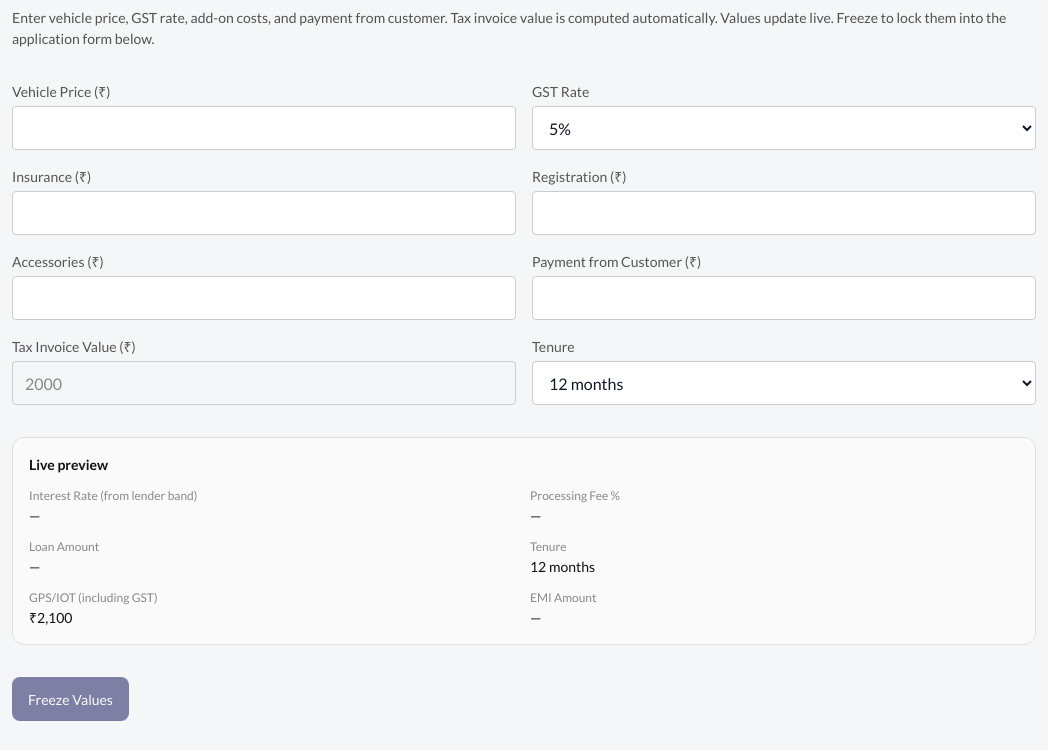
LoanCalculator › blocks freeze when customer payment is below 10% of tax invoice value
The image size is (1048, 750).
Later steps or results of the test are not shown.
Type "60000" into the field with test id "loan-calc-vehicle-price" at (264, 128), box [12, 106, 516, 150]
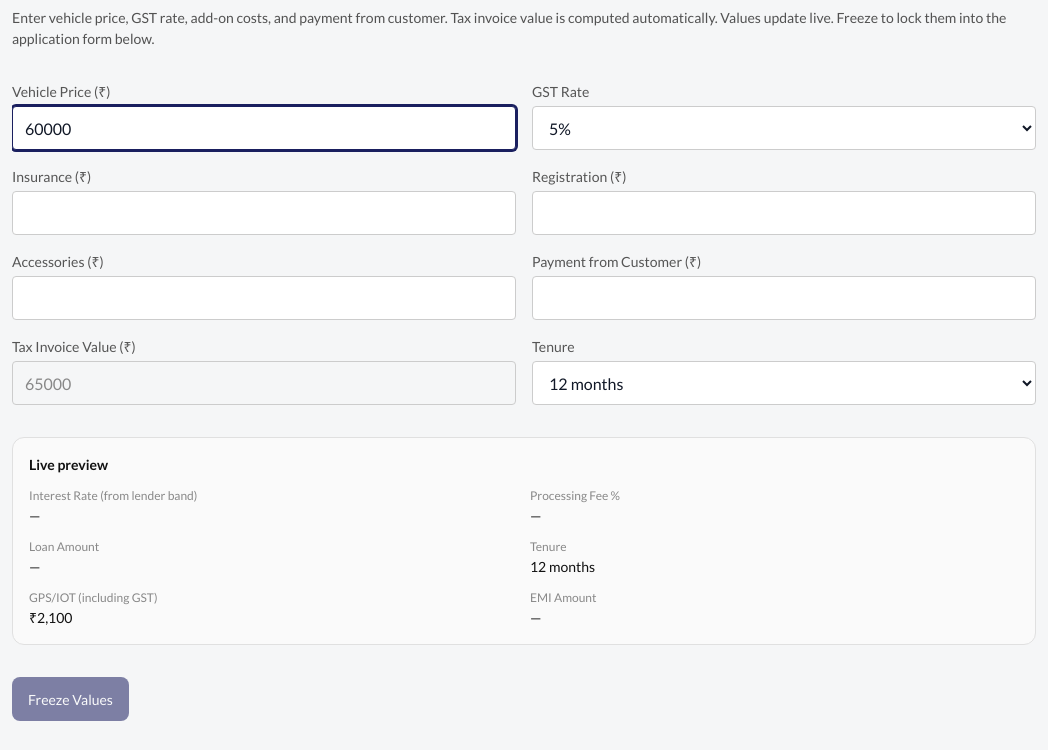
Select "5%" in the dropdown with test id "loan-calc-gst-rate" at (784, 128), box [532, 106, 1036, 150]
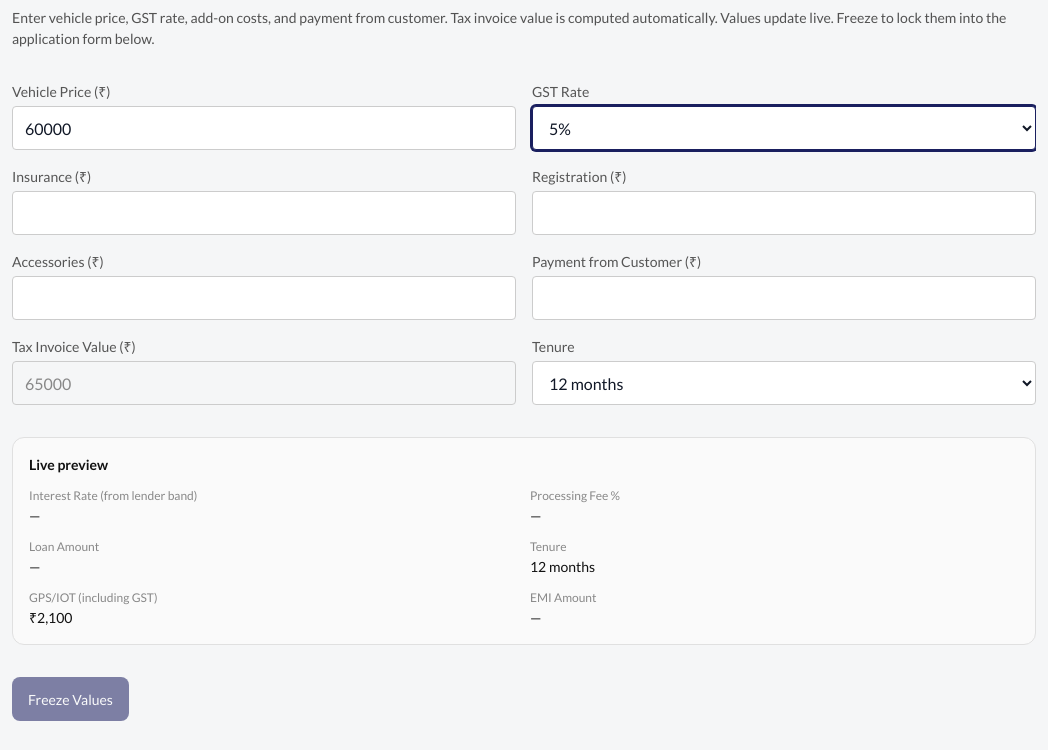
Type "0" into the field with test id "loan-calc-insurance" at (264, 213), box [12, 191, 516, 235]
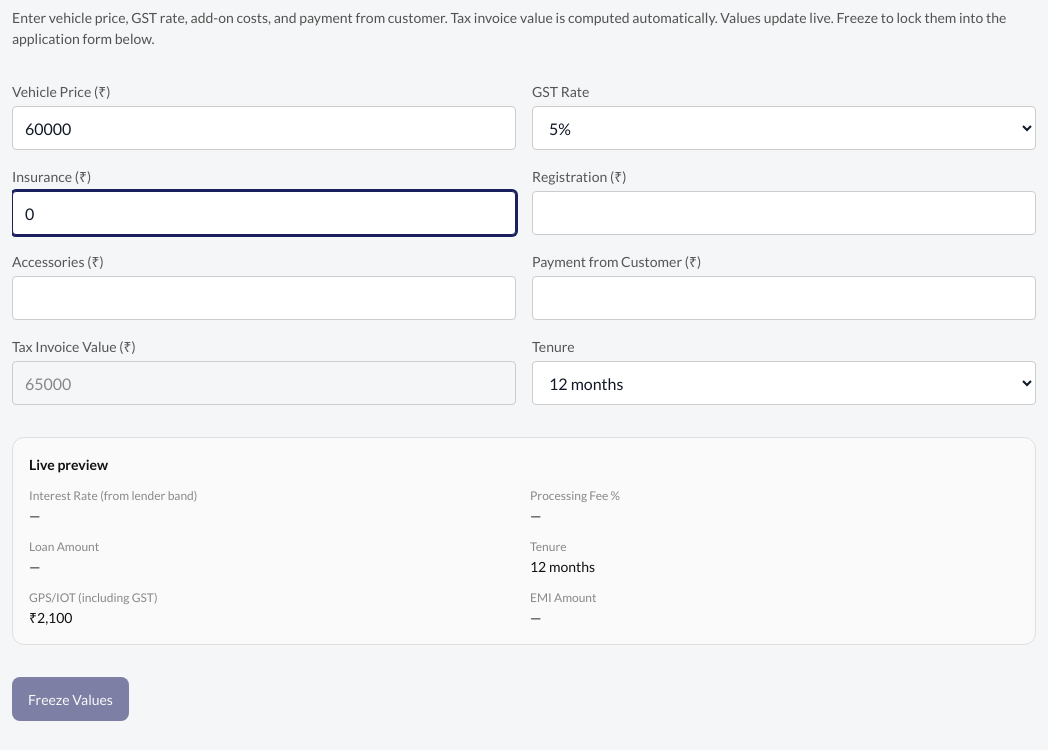
Type "0" into the field with test id "loan-calc-registration" at (784, 213), box [532, 191, 1036, 235]
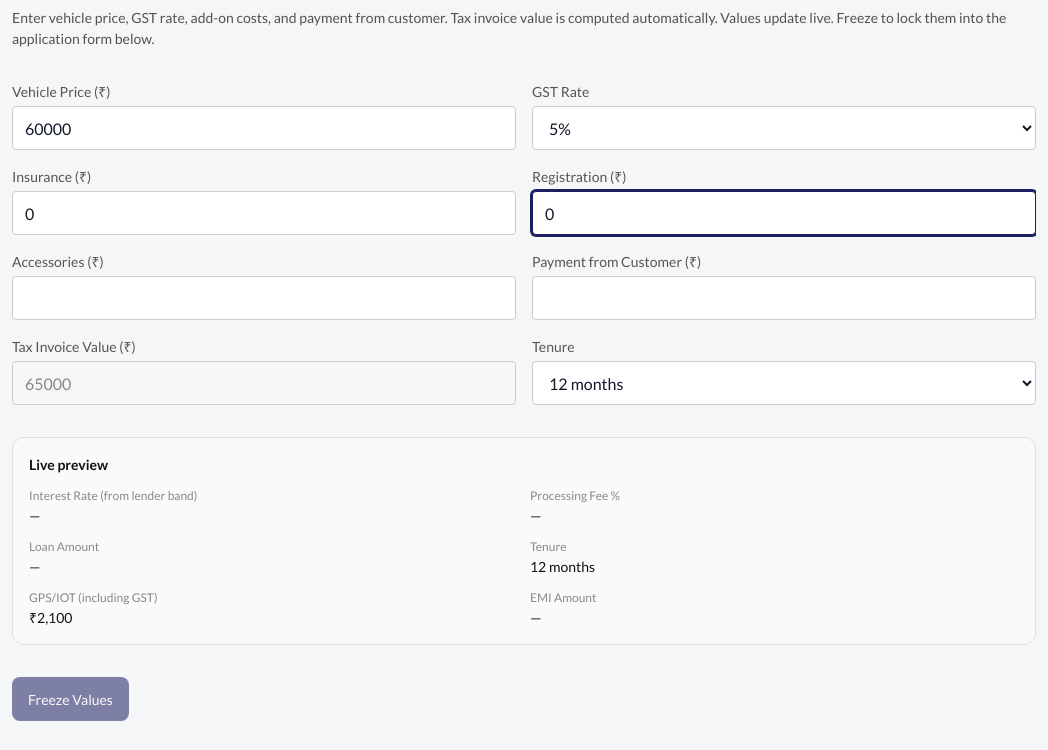
Type "0" into the field with test id "loan-calc-accessories" at (264, 298), box [12, 276, 516, 320]
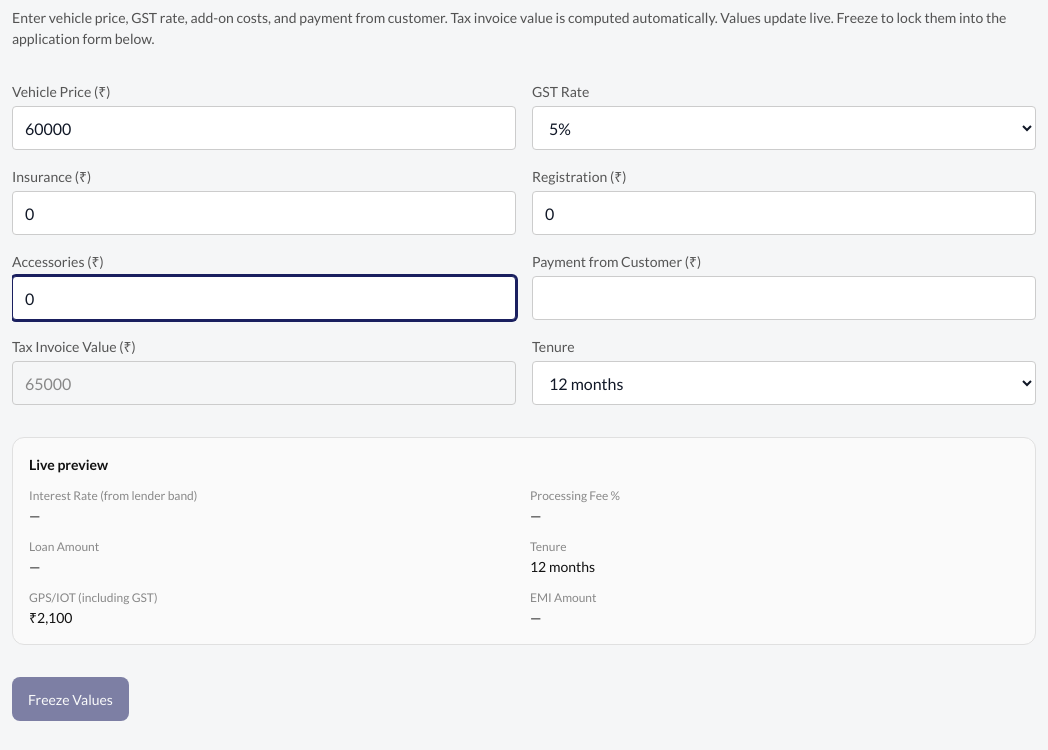
Type "1000" into the field with test id "loan-calc-customer-payment" at (784, 298), box [532, 276, 1036, 320]
(page scrolled)
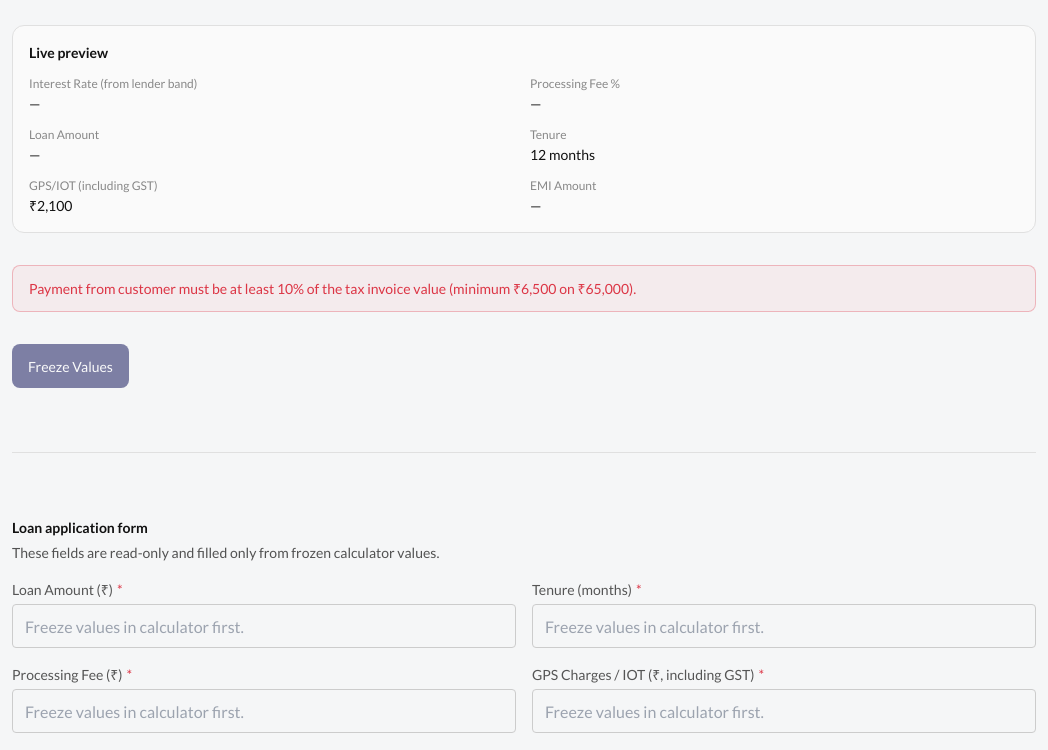
expect the button with test id "loan-calc-freeze" is disabled: met, box [12, 344, 129, 388]
expect the message with test id "loan-calc-customer-payment-error" is shown: met, box [12, 265, 1036, 312]
expect the message with test id "loan-calc-customer-payment-error" shows "10%": met, box [29, 280, 636, 297]
